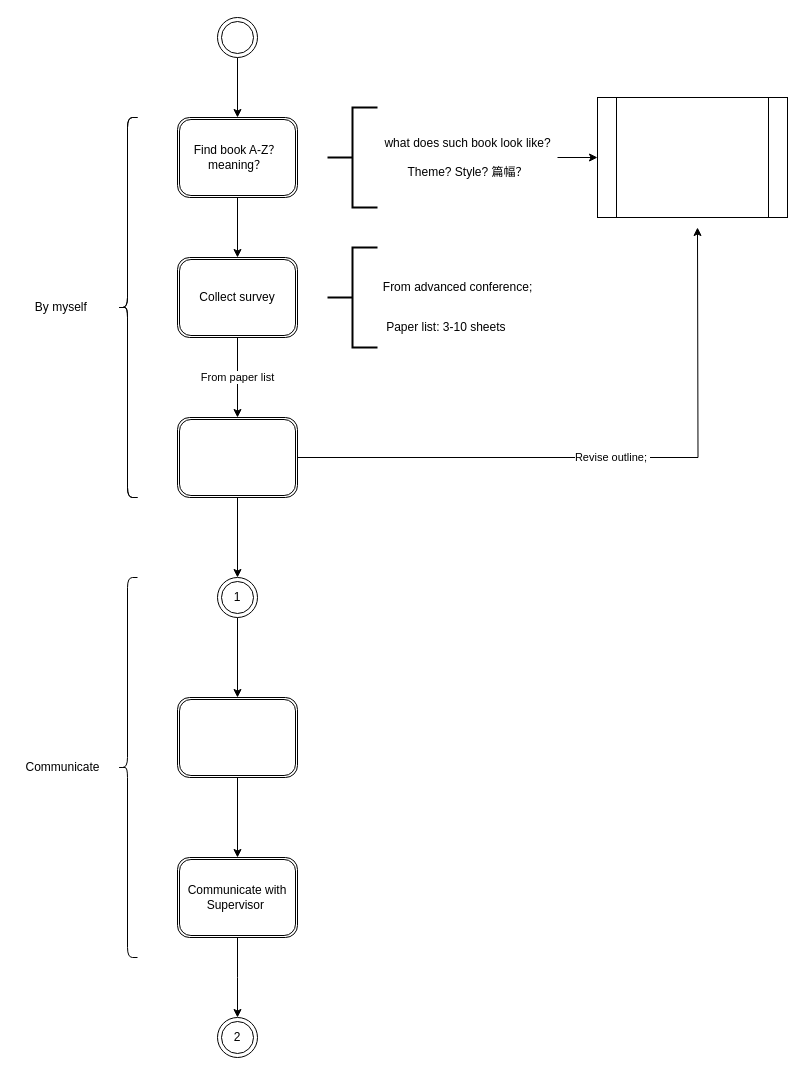
The diagram is 805 pixels wide and 1075 high, and some of its shapes have lost their labels. Here are the shapes that lost their labels. From the top down, the centre of each, then its label:
(x=692, y=157): Title Section 1.1 Section 1.2 Section 1.3 Section 2.1 Section 2.2 Section 2.3
(x=237, y=457): Outline
(x=237, y=737): Communicate with senior (female) fellow apprentice
